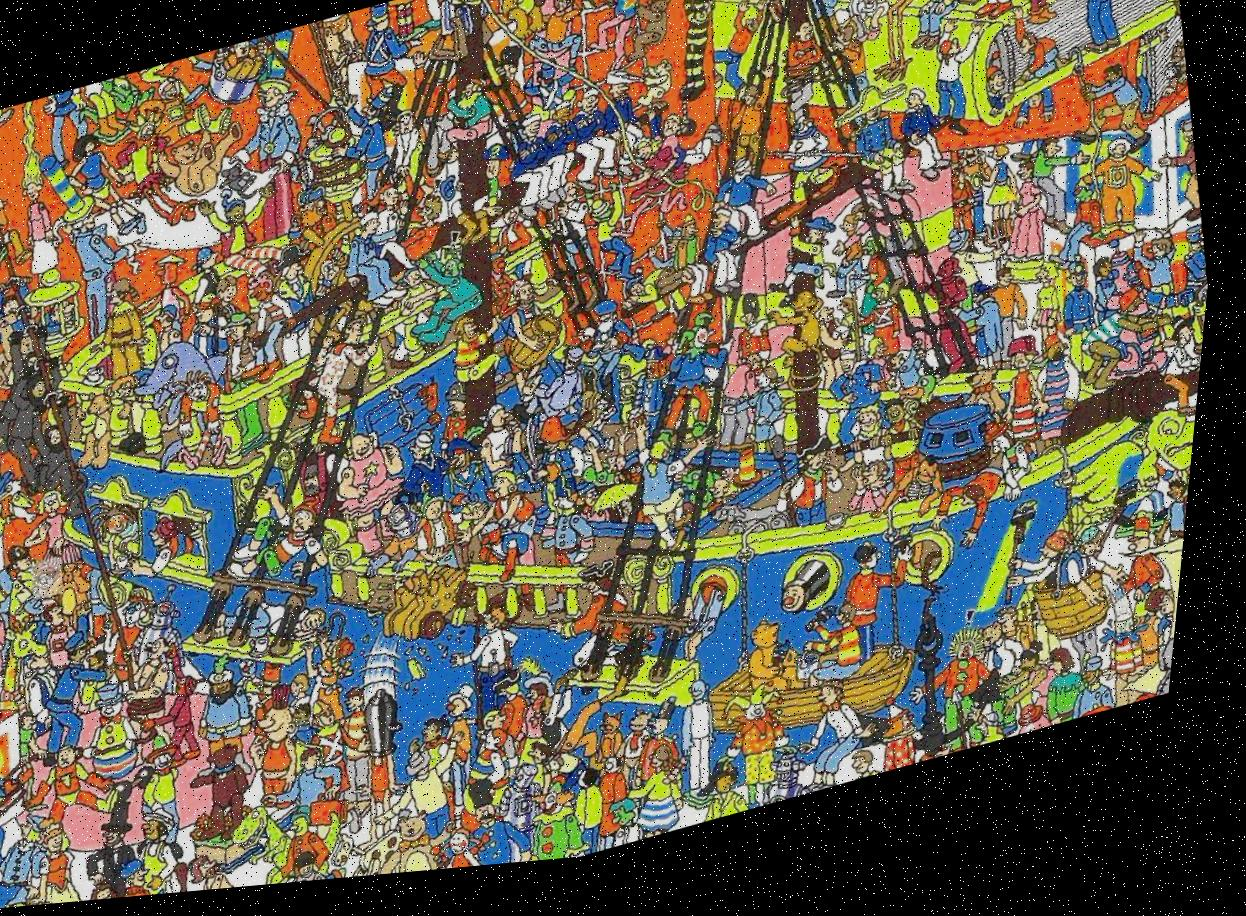waldo: (38, 558, 79, 603)
